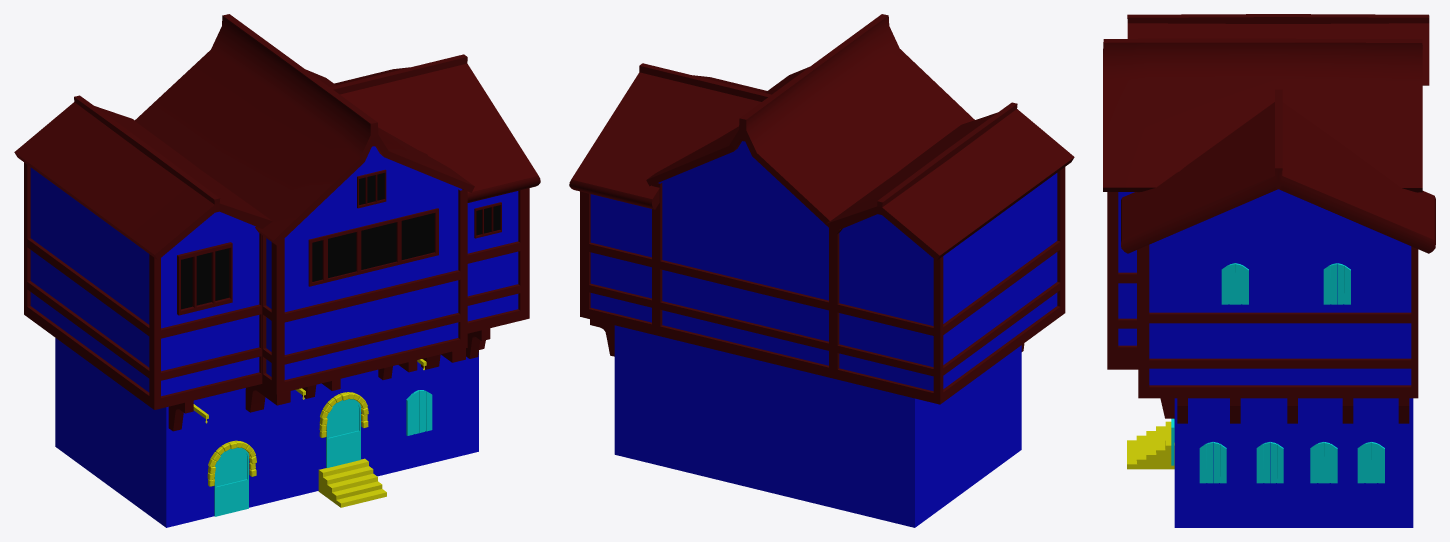
File: Ruined_Town_House_Set_01_Finished.fbx
The picture shows the model from 3 angles, left to right: view 1: azimuth 30°, elevation 25°; view 2: azimuth 150°, elevation 25°; view 3: azimuth 270°, elevation 25°; orthographic projection. The views are drawn at different scales.
Parts seen in each view (by area): view 1: RuinedTown_House_Set_01_Low; view 2: RuinedTown_House_Set_01_Low; view 3: RuinedTown_House_Set_01_Low.
Part boxes in pixels (x1,y1,x2,y2): RuinedTown_House_Set_01_Low: (14, 14, 540, 527); RuinedTown_House_Set_01_Low: (569, 14, 1074, 527); RuinedTown_House_Set_01_Low: (1103, 14, 1435, 527).
Size of the model in its own units: 12.63 by 12.21 by 8.85.
